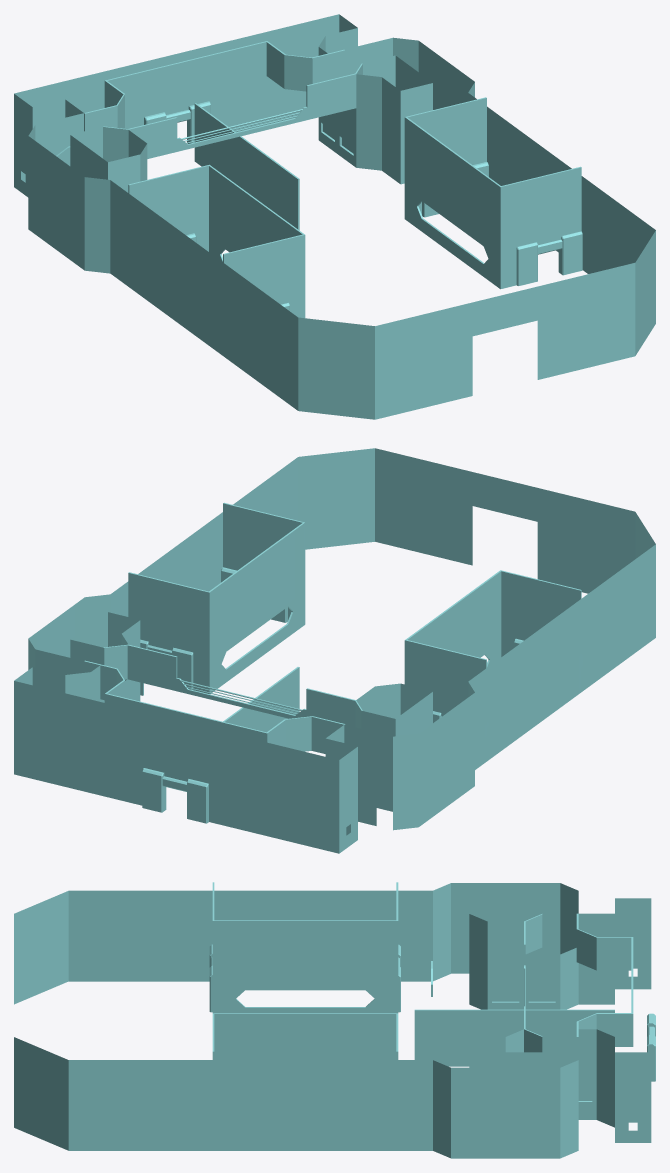
The model's file is Encounter_003_Walls.fbx.
3 renders of one model, top to bottom at view 1: azimuth 30°, elevation 25°; view 2: azimuth 150°, elevation 25°; view 3: azimuth 270°, elevation 25°, orthographic. The views are drawn at different scales.
Visible parts, largest first — view 1: Encounter_003_Walls; view 2: Encounter_003_Walls; view 3: Encounter_003_Walls.
Part boxes in pixels (left/top/right/bottom): Encounter_003_Walls: left=14, top=14, right=655, bottom=419; Encounter_003_Walls: left=14, top=448, right=655, bottom=853; Encounter_003_Walls: left=14, top=882, right=655, bottom=1158.
Bounding box in the file's own units: 4800 × 1200 × 7050.
